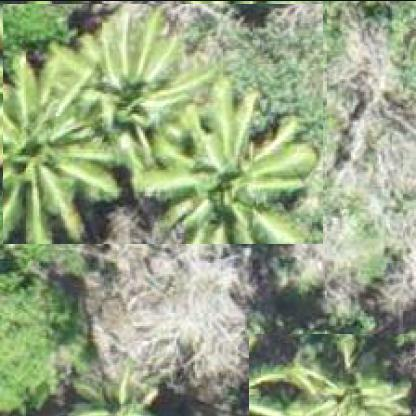coconut tree: (2, 2, 323, 243), (248, 331, 415, 415)
